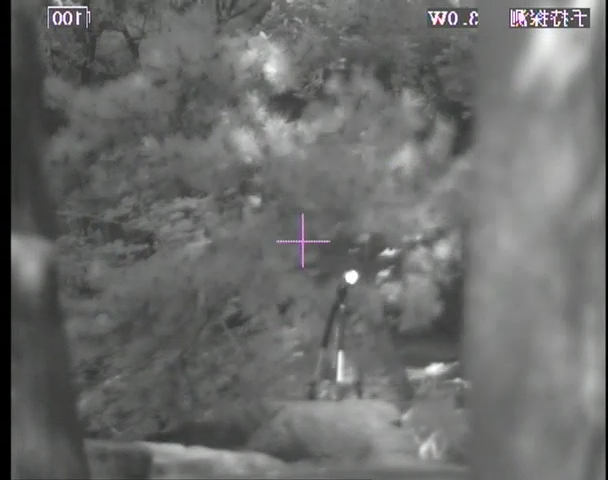my: (343, 268, 360, 285)
